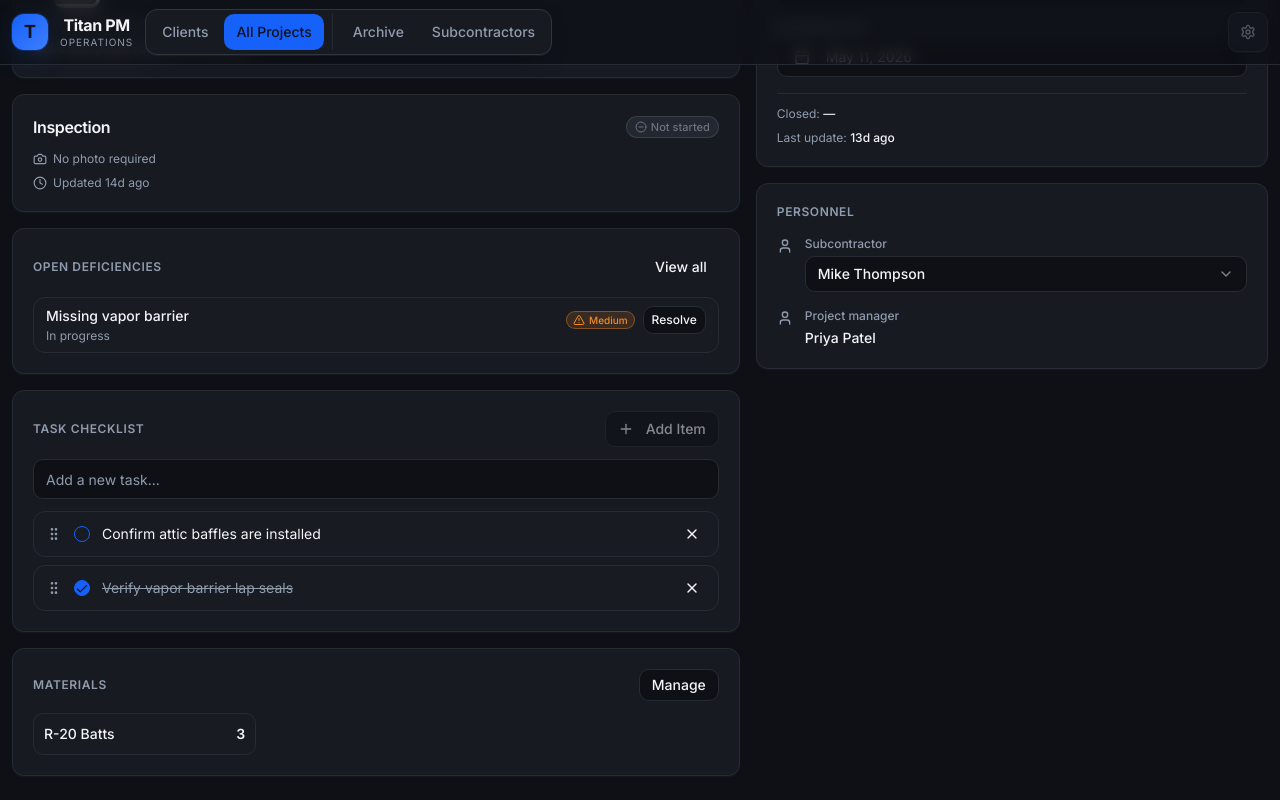
Scenario: PhaseDetailPage materials › opens the current phase material catalog and saves only changed draft quantities
Later steps or results of the test are not shown.
(page scrolled)
Click the button "Manage".
click(679, 685)  # box [639, 669, 719, 701]
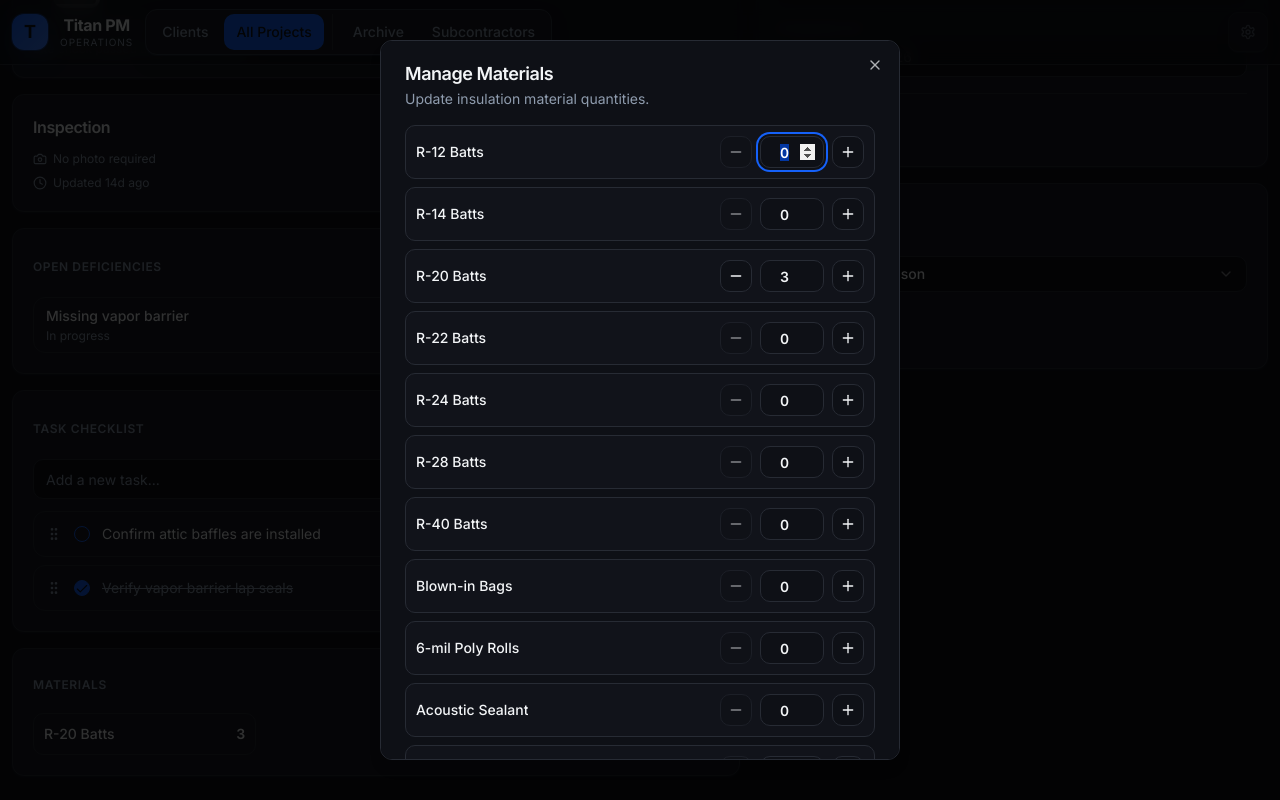
Check: the heading "Manage Materials" is shown, box [405, 63, 553, 84]
Check: the text "R-12 Batts" is shown, box [416, 142, 484, 162]
